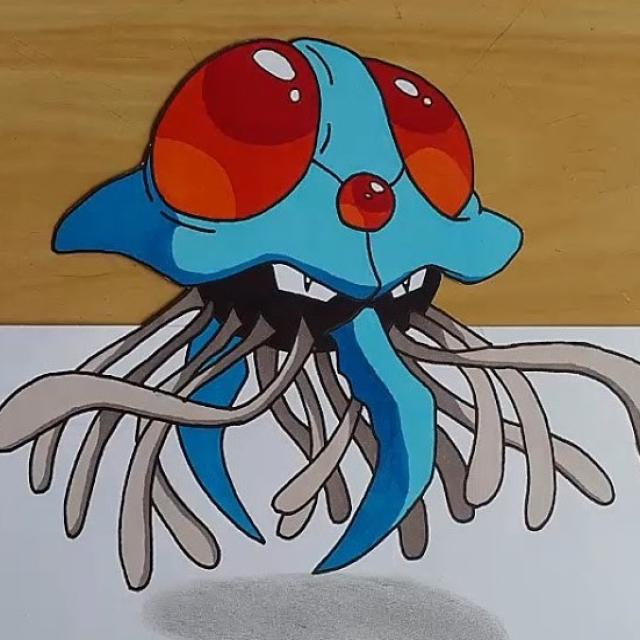Tentacruel: (120, 34, 525, 492)
